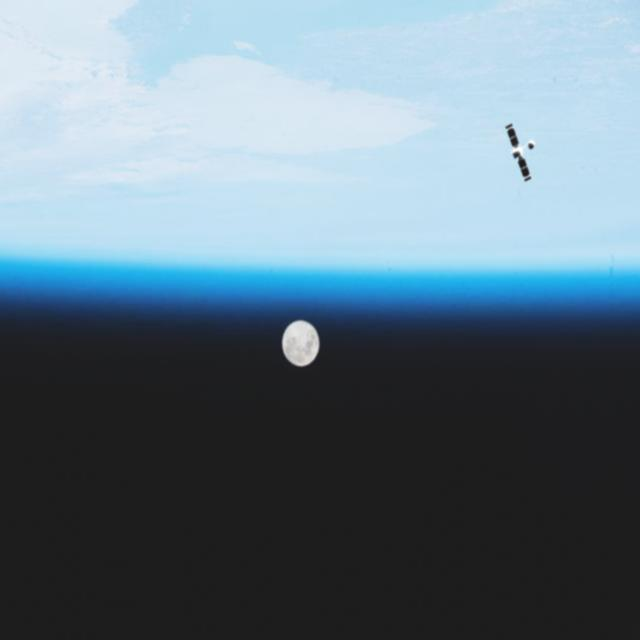satellite: (494, 112, 552, 188)
